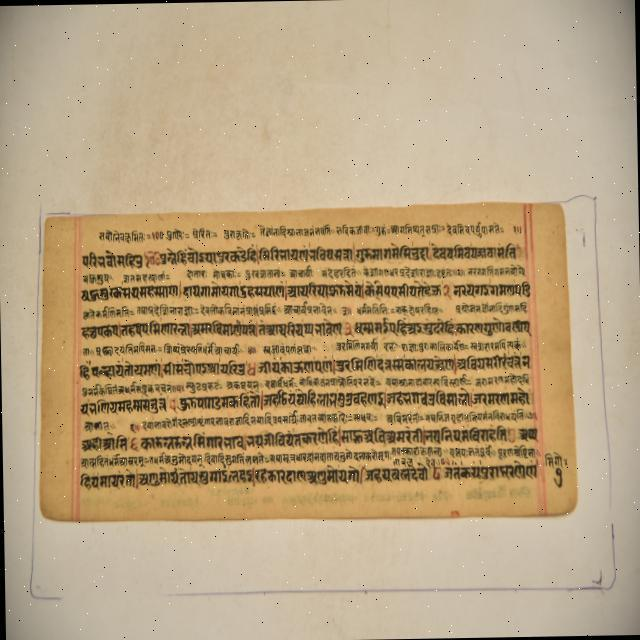text_paragraph: (42, 201, 578, 522)
